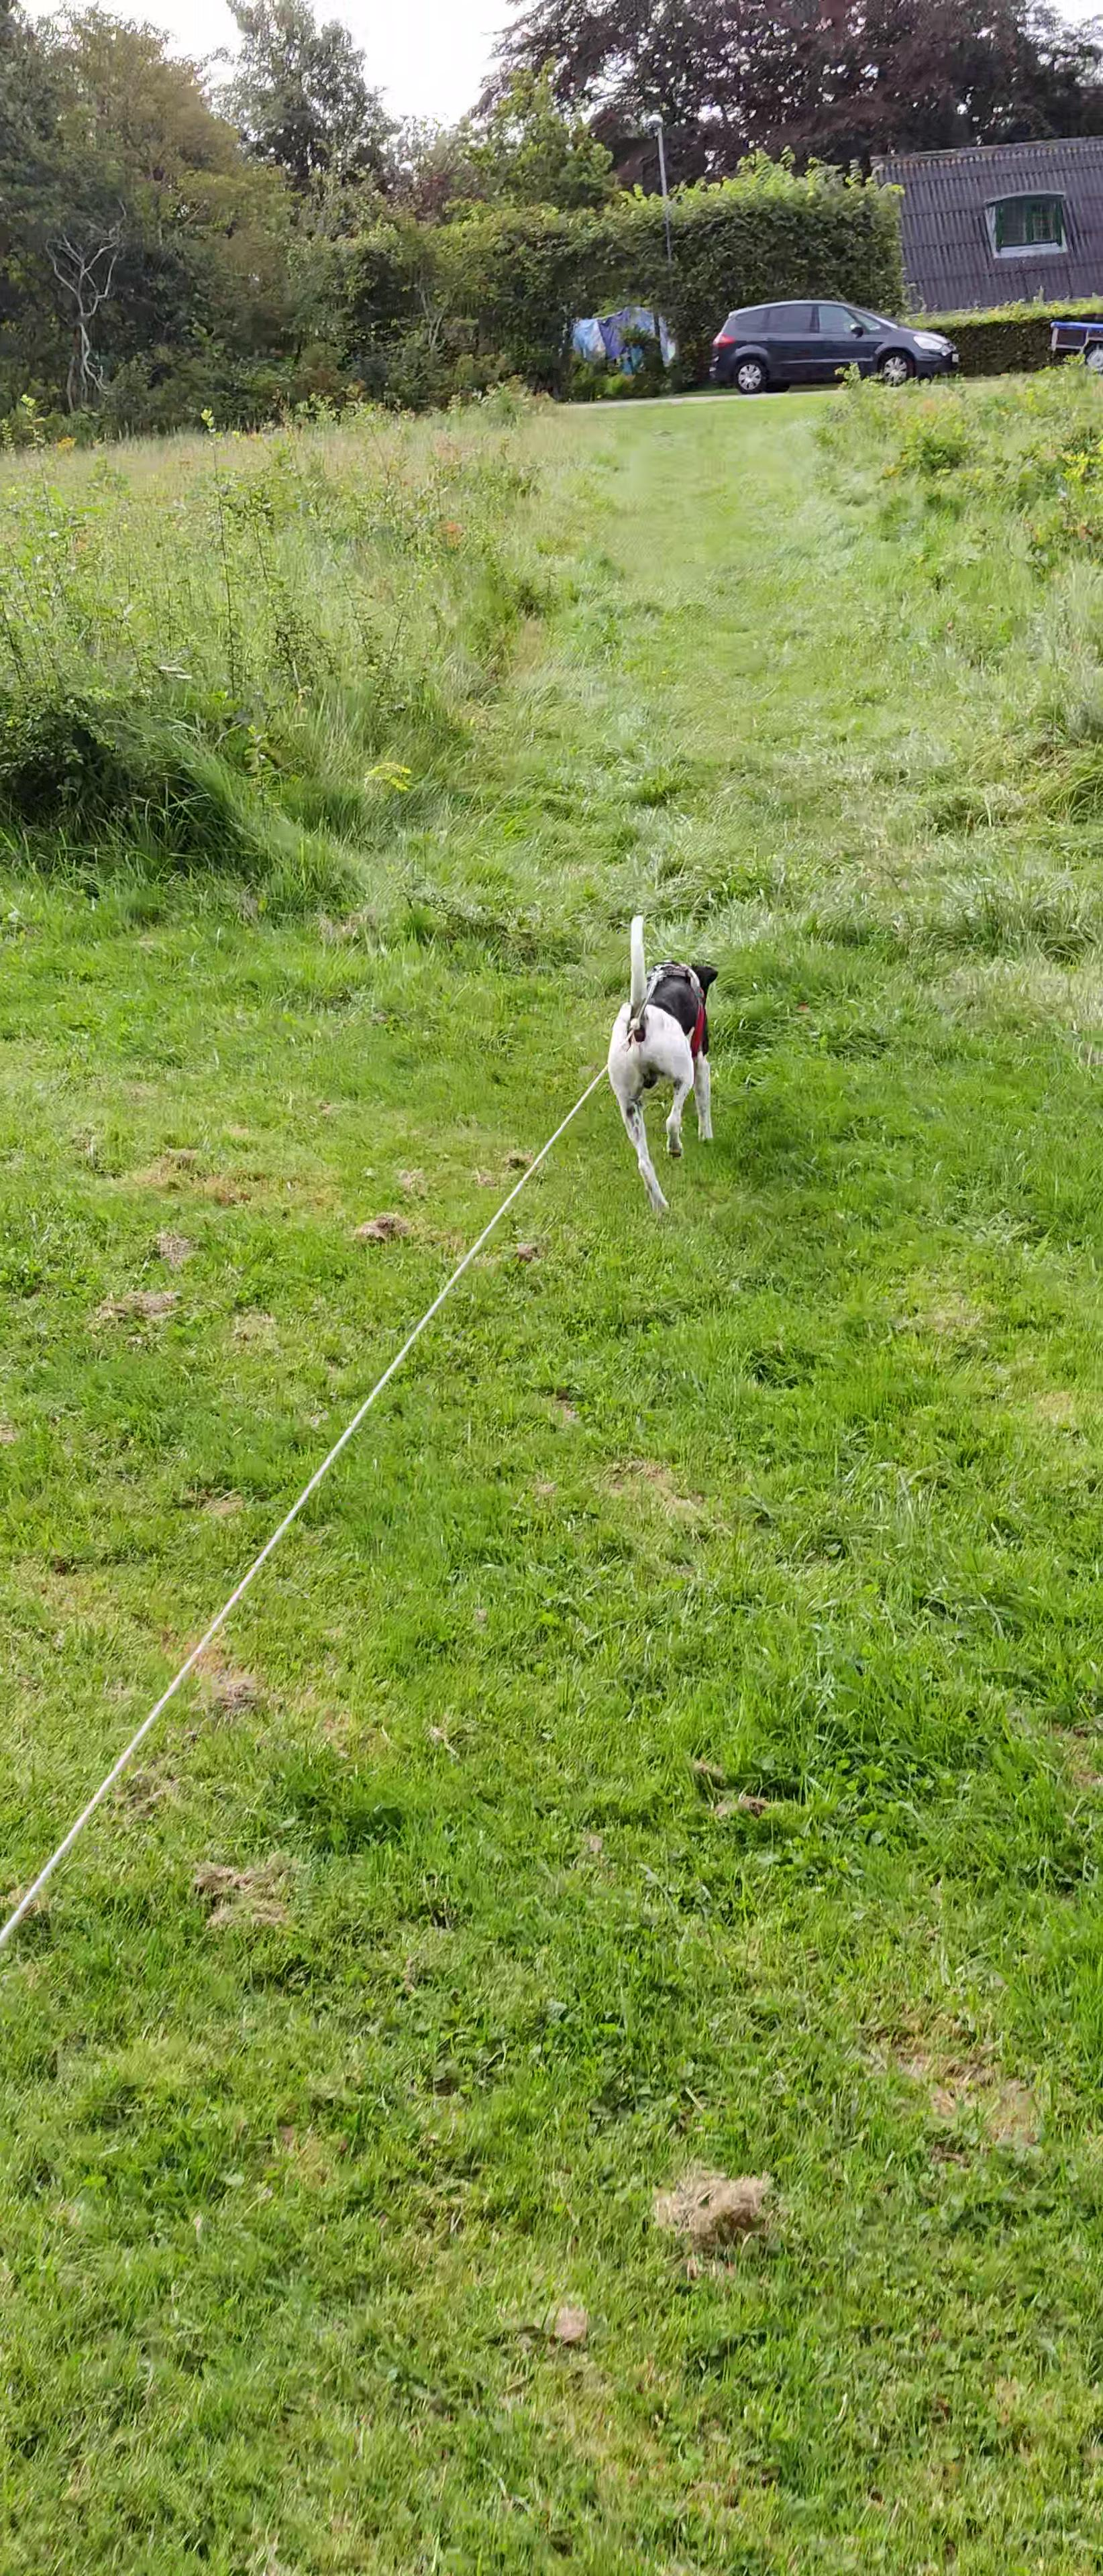Dog: (602, 913, 723, 1222)
